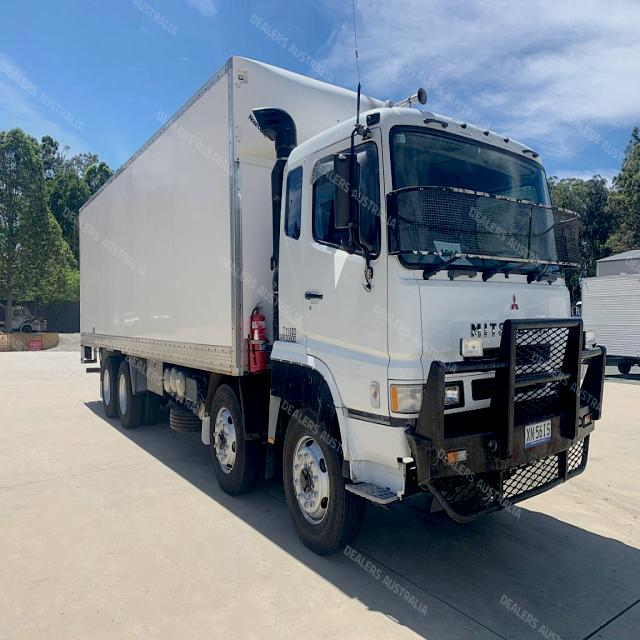truck: (81, 51, 609, 555)
